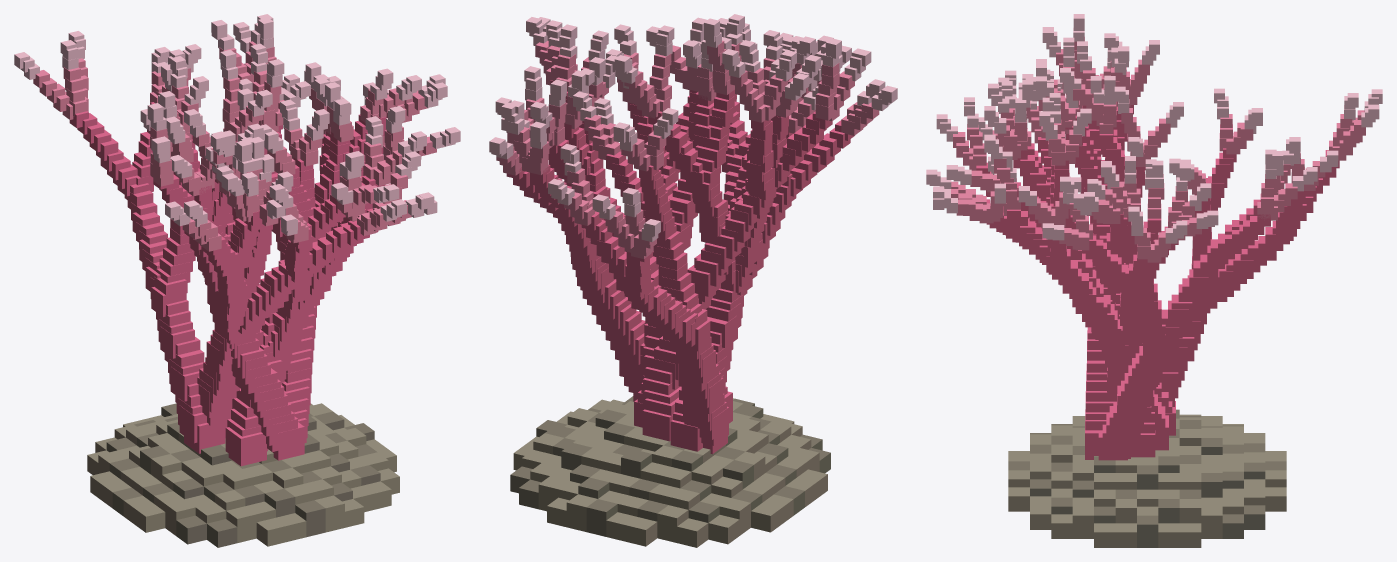
Rendered from CoralStaghorn_Large.obj.
The picture shows the model from 3 angles, left to right: view 1: azimuth 30°, elevation 25°; view 2: azimuth 150°, elevation 25°; view 3: azimuth 270°, elevation 25°; orthographic projection. The views are drawn at different scales.
Parts seen in each view (by area): view 1: CoralStaghorn_Large; view 2: CoralStaghorn_Large; view 3: CoralStaghorn_Large.
Boxes of the visible parts, x1=… form: CoralStaghorn_Large: x1=14, y1=14, x2=460, y2=547; CoralStaghorn_Large: x1=489, y1=14, x2=897, y2=547; CoralStaghorn_Large: x1=926, y1=14, x2=1382, y2=547.
Bounding box in the file's own units: 4.09 × 5.51 × 5.33.
Materials: 1 (1 with a texture image).
